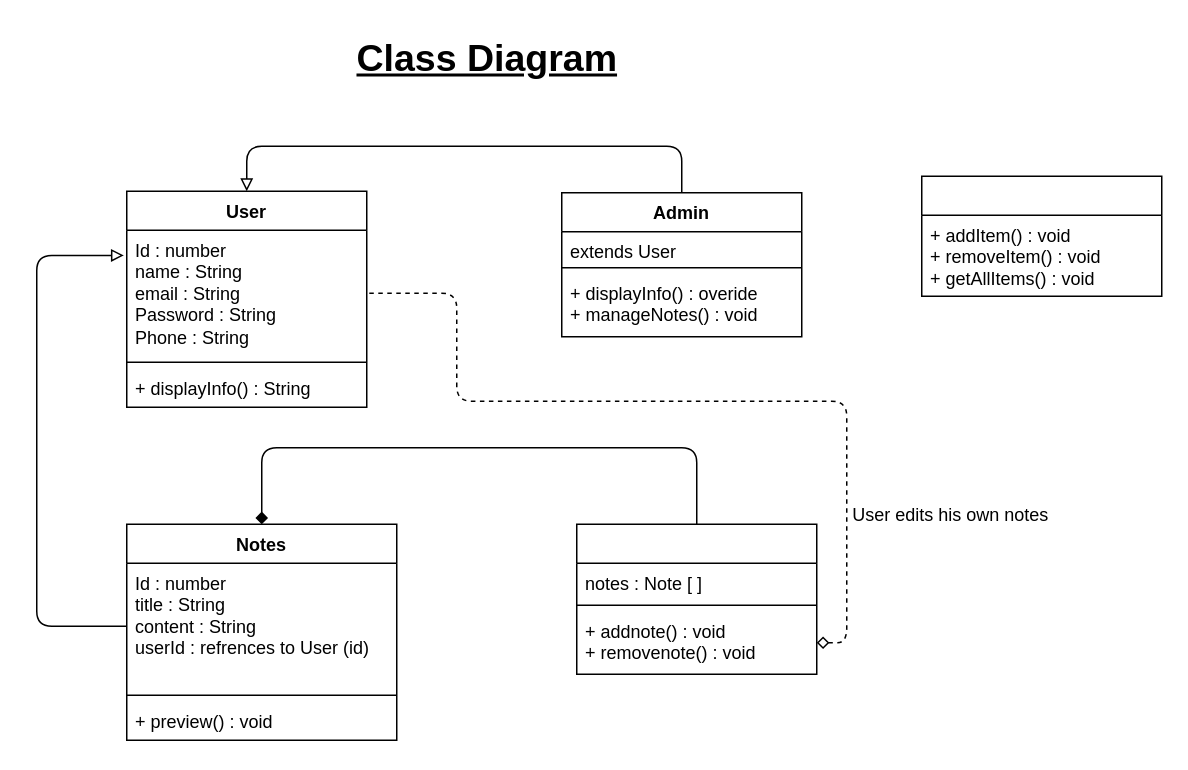
This 1188x770 diagram has some shape labels left out. Each missing label, with the box of its shape:
NoteBook: (575, 523, 817, 674)
Storage: (920, 175, 1162, 296)
